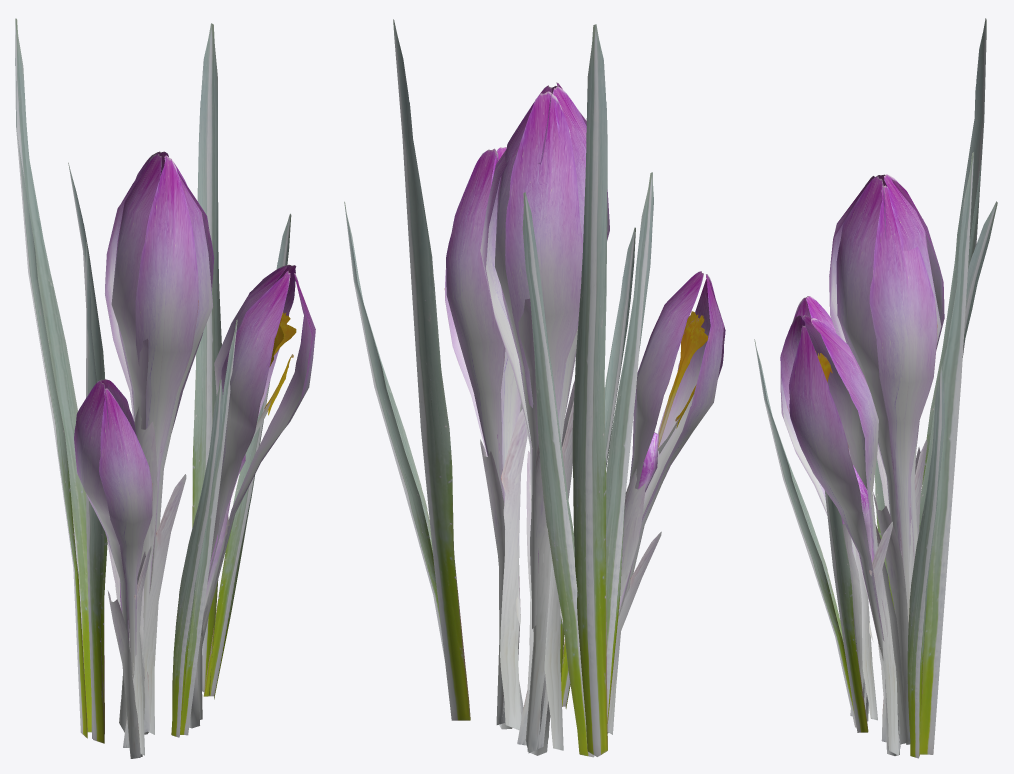
Rendered from flower_crocus_lod0.glb.
The picture shows the model from 3 angles, left to right: view 1: azimuth 30°, elevation 25°; view 2: azimuth 150°, elevation 25°; view 3: azimuth 270°, elevation 25°; orthographic projection. The views are drawn at different scales.
Visible parts, largest first — view 1: bq_Flower_Crocus-vernus_B_spring-summer; view 2: bq_Flower_Crocus-vernus_B_spring-summer; view 3: bq_Flower_Crocus-vernus_B_spring-summer.
Part boxes in pixels (x1,y1,x2,y2): bq_Flower_Crocus-vernus_B_spring-summer: [15, 18, 315, 758]; bq_Flower_Crocus-vernus_B_spring-summer: [344, 19, 725, 757]; bq_Flower_Crocus-vernus_B_spring-summer: [754, 18, 997, 758].
Size of the model in its own units: 0.0532 by 0.1317 by 0.0428.
2 materials, 2 textured.
